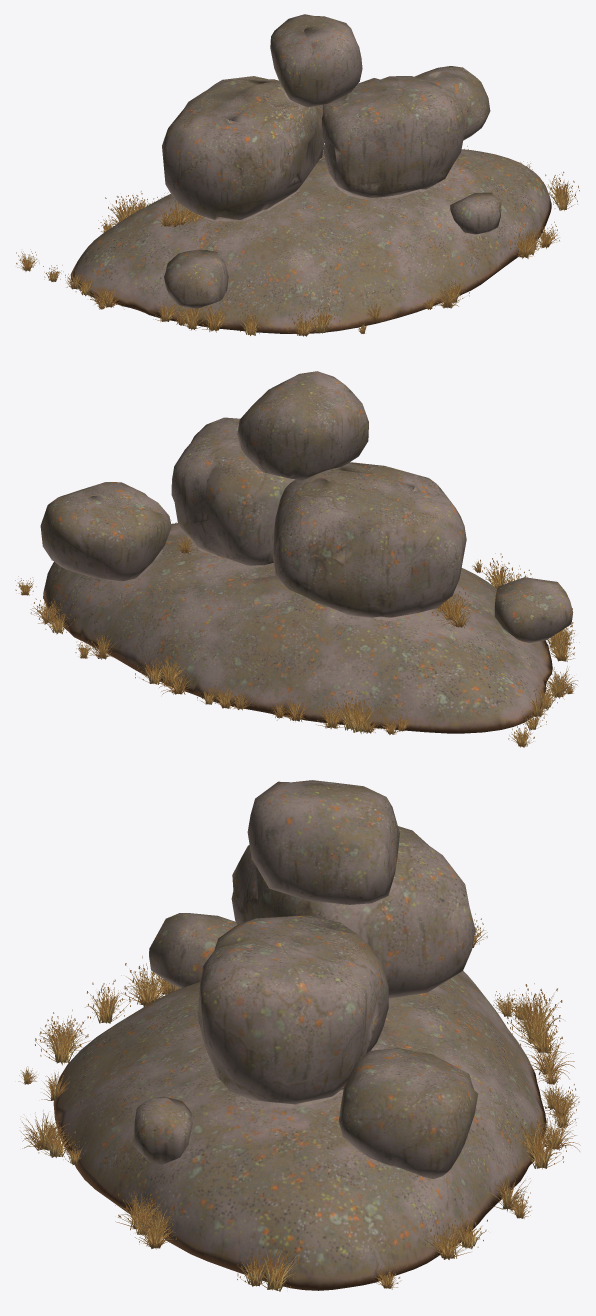
The model's file is granite-kopje-lod1.glb.
The picture shows the model from 3 angles, top to bottom: view 1: azimuth 30°, elevation 25°; view 2: azimuth 150°, elevation 25°; view 3: azimuth 270°, elevation 25°; orthographic projection. The views are drawn at different scales.
Parts seen in each view (by area): view 1: kopje_outcrop; view 2: kopje_outcrop; view 3: kopje_outcrop.
Part boxes in pixels (x1,y1,x2,y2): kopje_outcrop: [16, 14, 579, 336]; kopje_outcrop: [15, 371, 579, 747]; kopje_outcrop: [18, 780, 580, 1291].
Bounding box in the file's own units: 12.65 × 5.51 × 8.39.
Materials: 2 (2 with a texture image).
